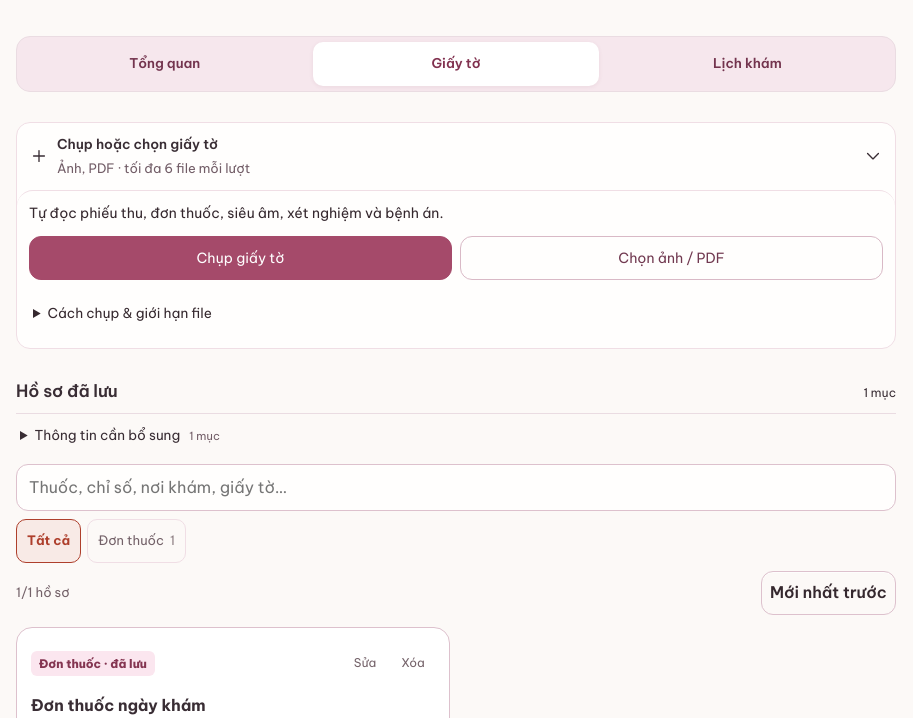
Test case: pregnancy medical record book › hydrates medicines when editing a saved prescription
The width and height of the screenshot is (913, 718).
Step 1. Click the button "Sửa" → (365, 664), box [343, 642, 387, 686]
(page scrolled)
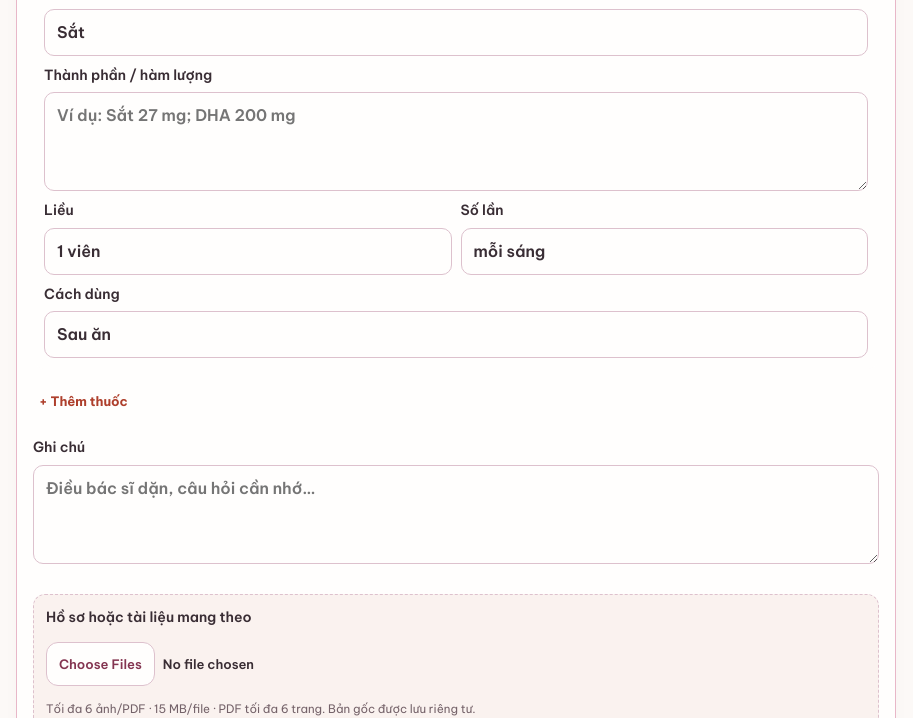
expect the field labelled "Tên thuốc" holds "Sắt": met, box [44, 9, 868, 56]
expect the field labelled "Liều" holds "1 viên": met, box [44, 228, 452, 275]
expect the field labelled "Số lần" holds "mỗi sáng": met, box [460, 228, 868, 275]
